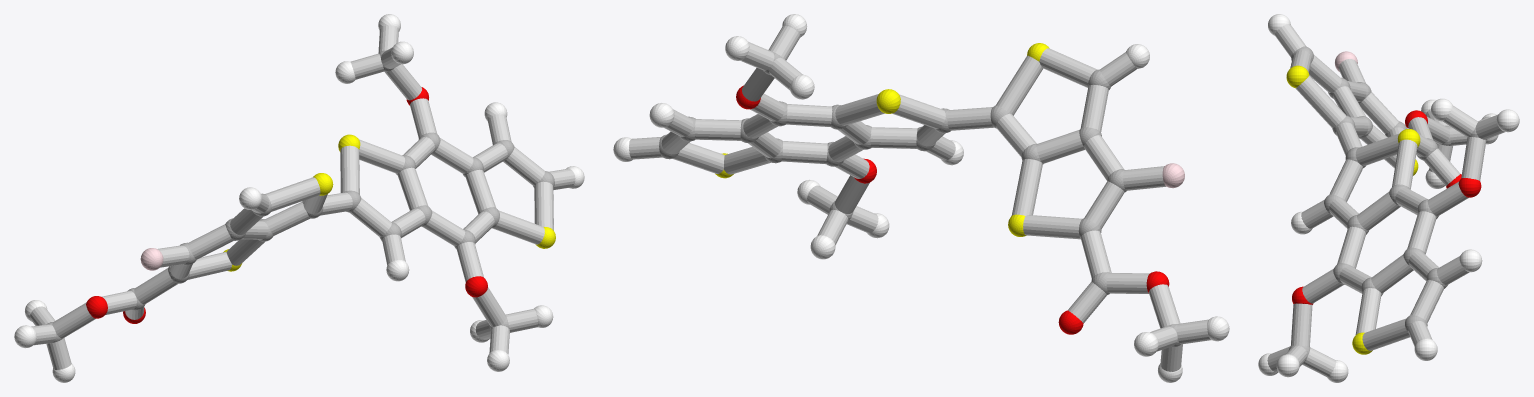
File: Dimethoxy_Benzodithiophene_Phi_0_Theta_90_Methylcarbonyl_3_Fluoro_Thienothiophene.glb
3 views of the same model, side by side, from view 1: azimuth 30°, elevation 25°; view 2: azimuth 150°, elevation 25°; view 3: azimuth 270°, elevation 25° (orthographic). The views are drawn at different scales.
Visible parts, largest first — view 1: grp15205, grp8689, grp1, grp13395, grp7241; view 2: grp15205, grp8689, grp1, grp13395, grp7241; view 3: grp15205, grp8689, grp1, grp7241, grp13395.
Boxes of the visible parts, x1=… form: grp15205: x1=30, y1=25, x2=575, y2=369; grp8689: x1=14, y1=14, x2=584, y2=382; grp1: x1=46, y1=50, x2=554, y2=342; grp13395: x1=86, y1=87, x2=487, y2=323; grp7241: x1=223, y1=134, x2=555, y2=271; grp15205: x1=629, y1=25, x2=1211, y2=371; grp8689: x1=613, y1=14, x2=1229, y2=382; grp1: x1=659, y1=52, x2=1180, y2=346; grp13395: x1=736, y1=85, x2=1169, y2=334; grp7241: x1=715, y1=43, x2=1049, y2=236; grp15205: x1=1267, y1=24, x2=1504, y2=377; grp8689: x1=1258, y1=14, x2=1519, y2=382; grp1: x1=1288, y1=46, x2=1486, y2=356; grp7241: x1=1286, y1=65, x2=1420, y2=354; grp13395: x1=1292, y1=110, x2=1481, y2=304.
Size of the model in its own units: 17.05 by 7.75 by 6.79.
